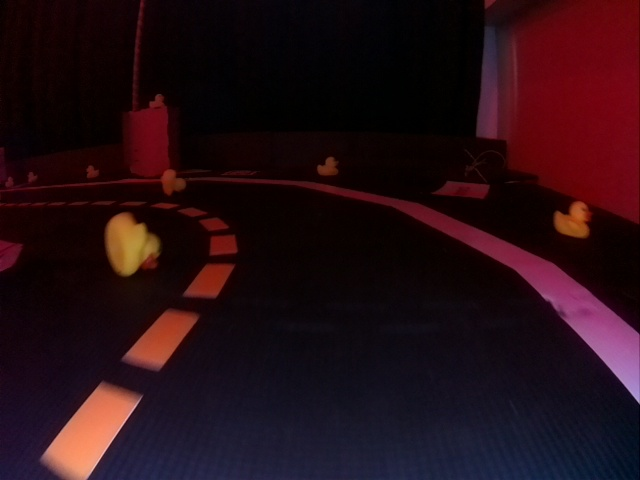Duckie: (109, 213, 162, 275), (555, 202, 589, 238), (161, 173, 186, 195), (319, 157, 340, 177), (86, 163, 99, 179), (26, 172, 35, 182)
